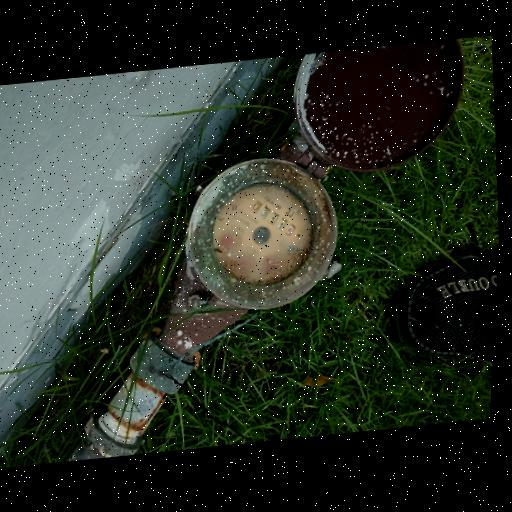0: (249, 199, 263, 215)
1: (267, 212, 281, 227), (275, 217, 289, 231)
3: (257, 205, 272, 221)
5: (283, 223, 297, 238)
border_water_meter_number: (245, 194, 303, 244)
